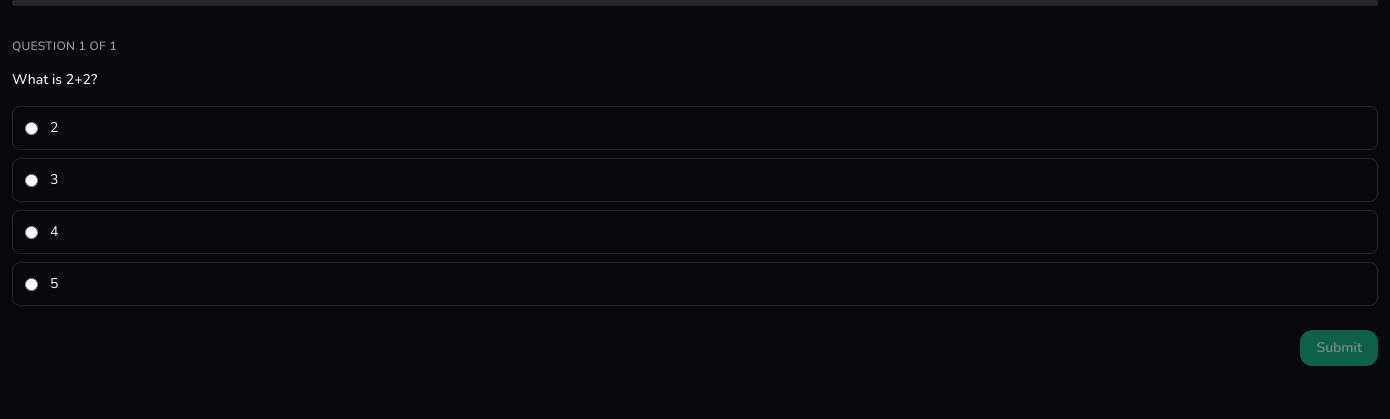
Test: PracticeProblemRunner › shows results summary after last question
The width and height of the screenshot is (1390, 419).
Click the radio button labelled "4".
click(32, 232)  # box [25,226,38,238]
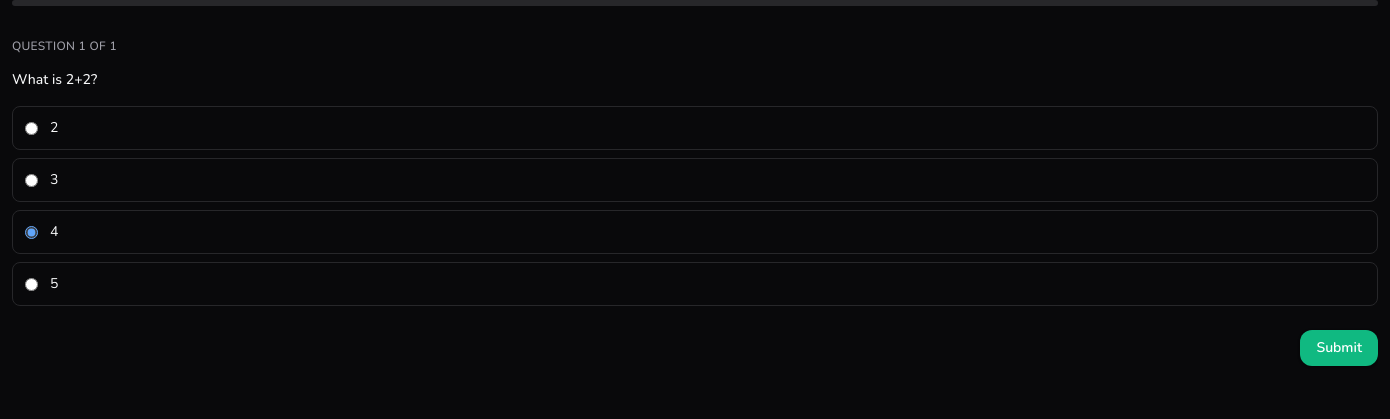
Click the button "Submit".
click(1339, 348)  # box [1300,330,1378,366]
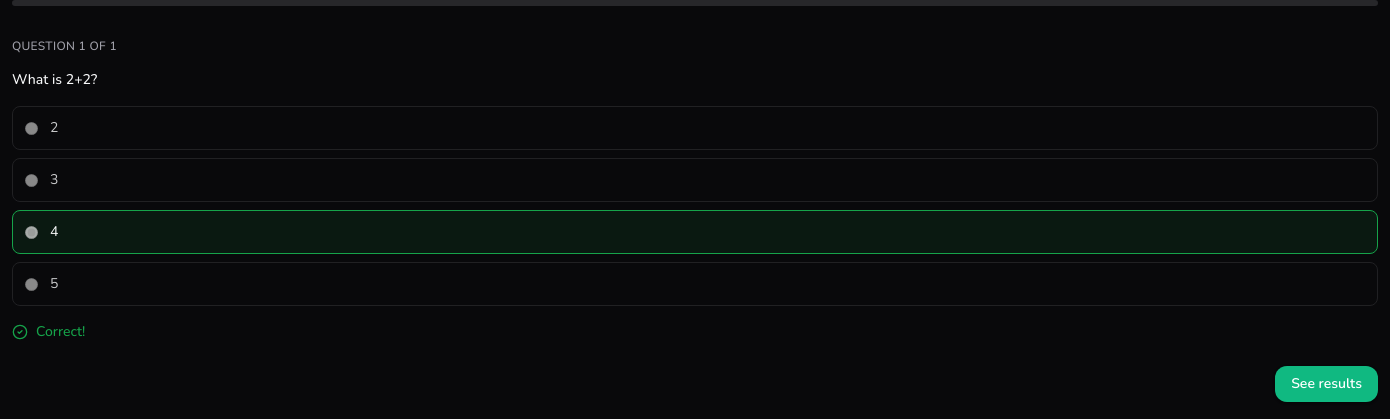
Click the button "See results".
click(1327, 384)  # box [1275,366,1378,402]
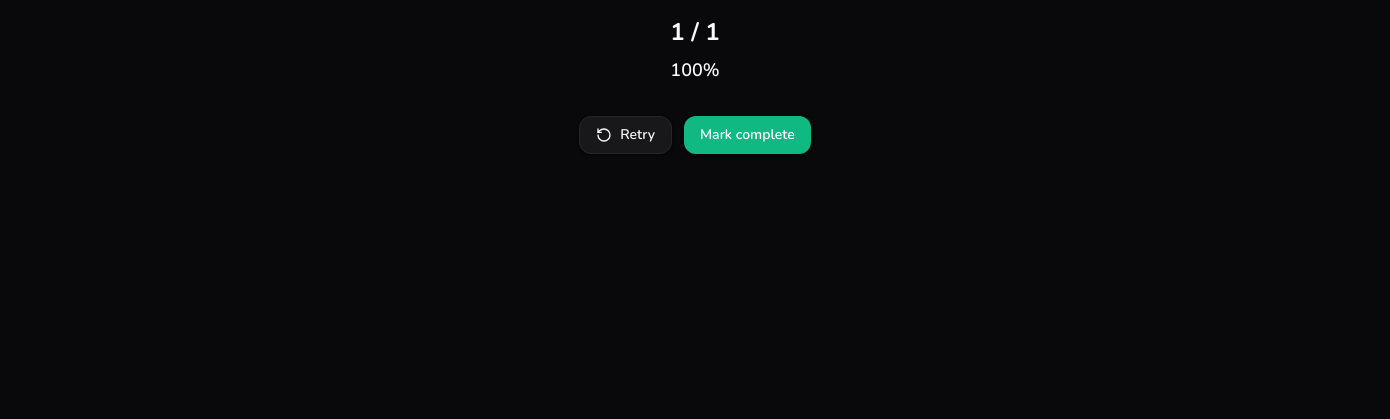
Check: the text "1 / 1" is shown, box [670,16,720,48]
